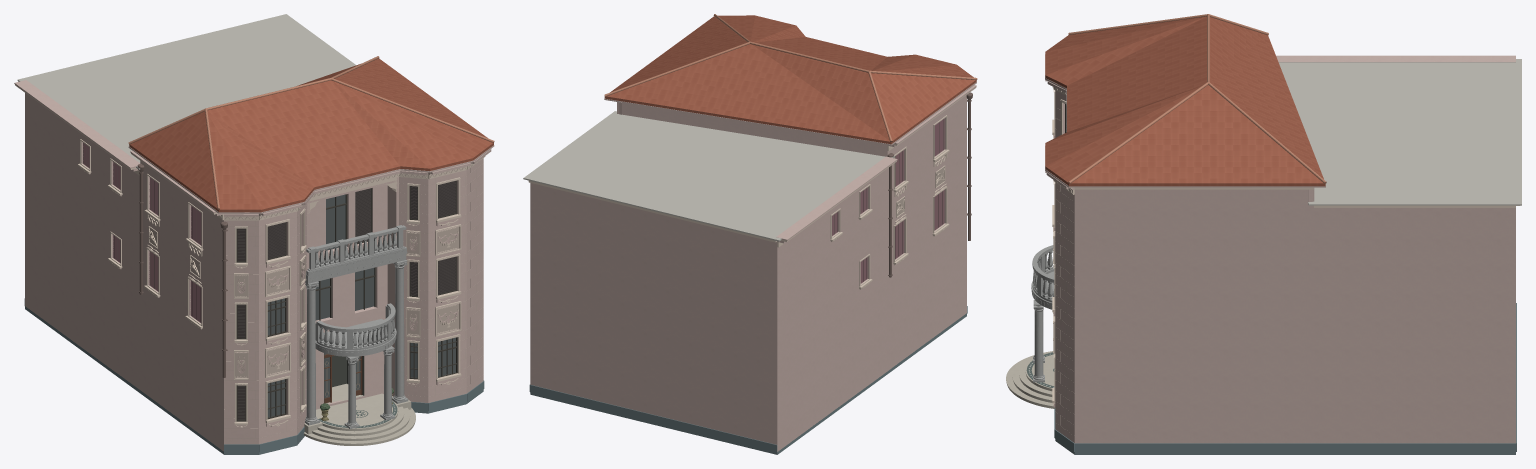
The model's file is xuhui-jianguo-336-lane-one-villa-raw.glb.
3 renders of one model, left to right at view 1: azimuth 30°, elevation 25°; view 2: azimuth 150°, elevation 25°; view 3: azimuth 270°, elevation 25°, orthographic. The views are drawn at different scales.
Parts seen in each view (by area): view 1: 福德坊1号花园住宅; view 2: 福德坊1号花园住宅; view 3: 福德坊1号花园住宅.
Part boxes in pixels (bbox=[...]): 福德坊1号花园住宅: bbox=[14, 14, 494, 454]; 福德坊1号花园住宅: bbox=[523, 14, 977, 454]; 福德坊1号花园住宅: bbox=[1006, 14, 1521, 454].
Bounding box in the file's own units: 13.85 × 13.86 × 20.04.
27 materials, 4 textured.
